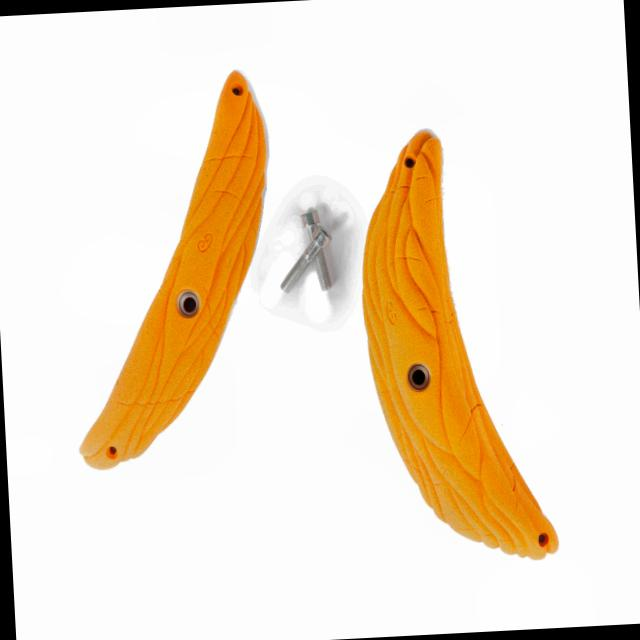Hold: (356, 122, 561, 564), (62, 74, 281, 478)
